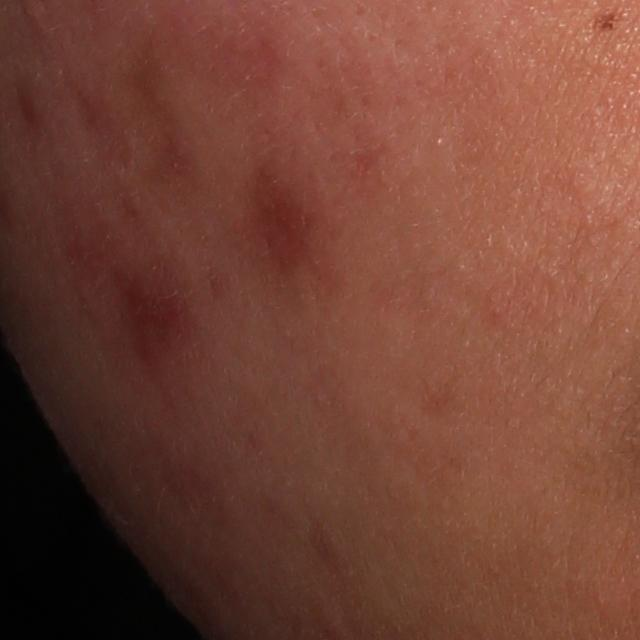nevus: (590, 16, 620, 32)
